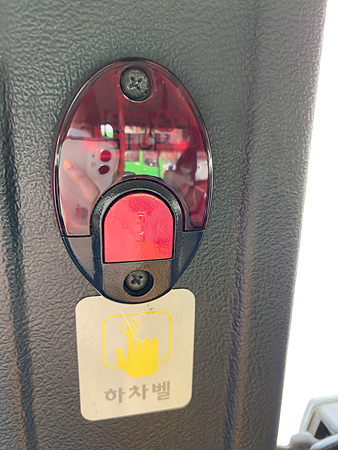bell: (53, 58, 213, 304)
